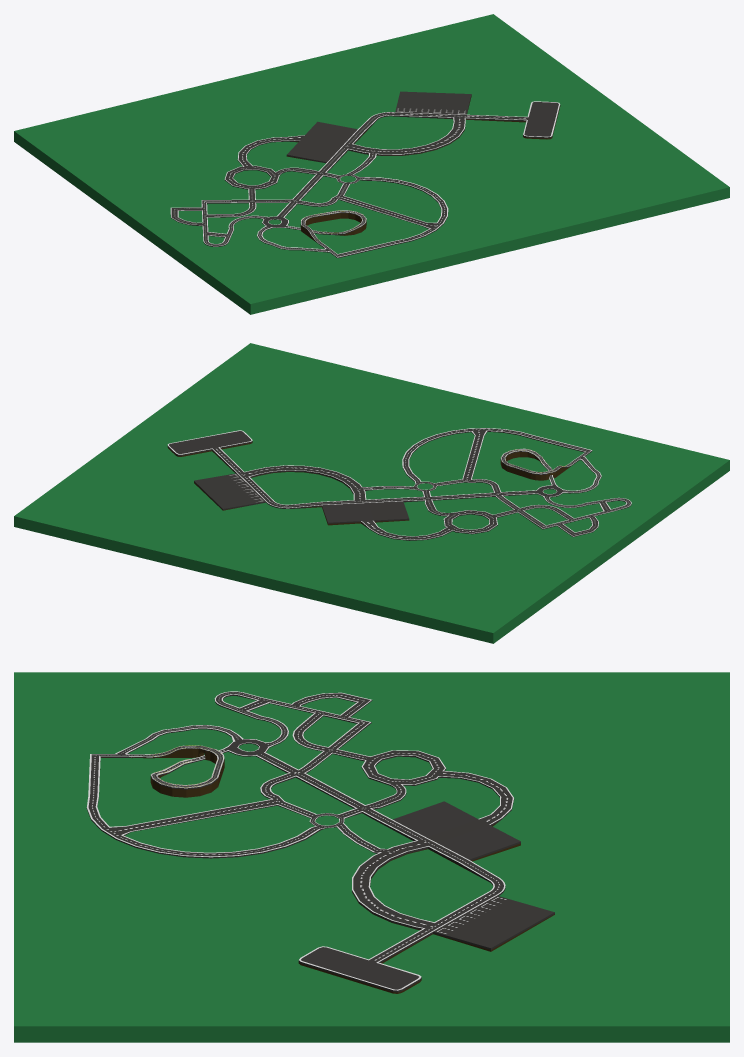
File: second_city.fbx
3 views of the same model, one above another, from view 1: azimuth 30°, elevation 25°; view 2: azimuth 150°, elevation 25°; view 3: azimuth 270°, elevation 25° (orthographic). The views are drawn at different scales.
Parts seen in each view (by area): view 1: Plane, Cube; view 2: Plane, Cube; view 3: Plane, Cube.
Part boxes in pixels (x1=…): Plane: x1=14, y1=14, x2=729, y2=314; Cube: x1=170, y1=91, x2=560, y2=258; Plane: x1=14, y1=343, x2=729, y2=643; Cube: x1=167, y1=428, x2=631, y2=540; Plane: x1=14, y1=672, x2=729, y2=1042; Cube: x1=86, y1=691, x2=554, y2=993.
Bounding box in the file's own units: 117035 × 4066 × 100000.
9 materials, 5 textured.
